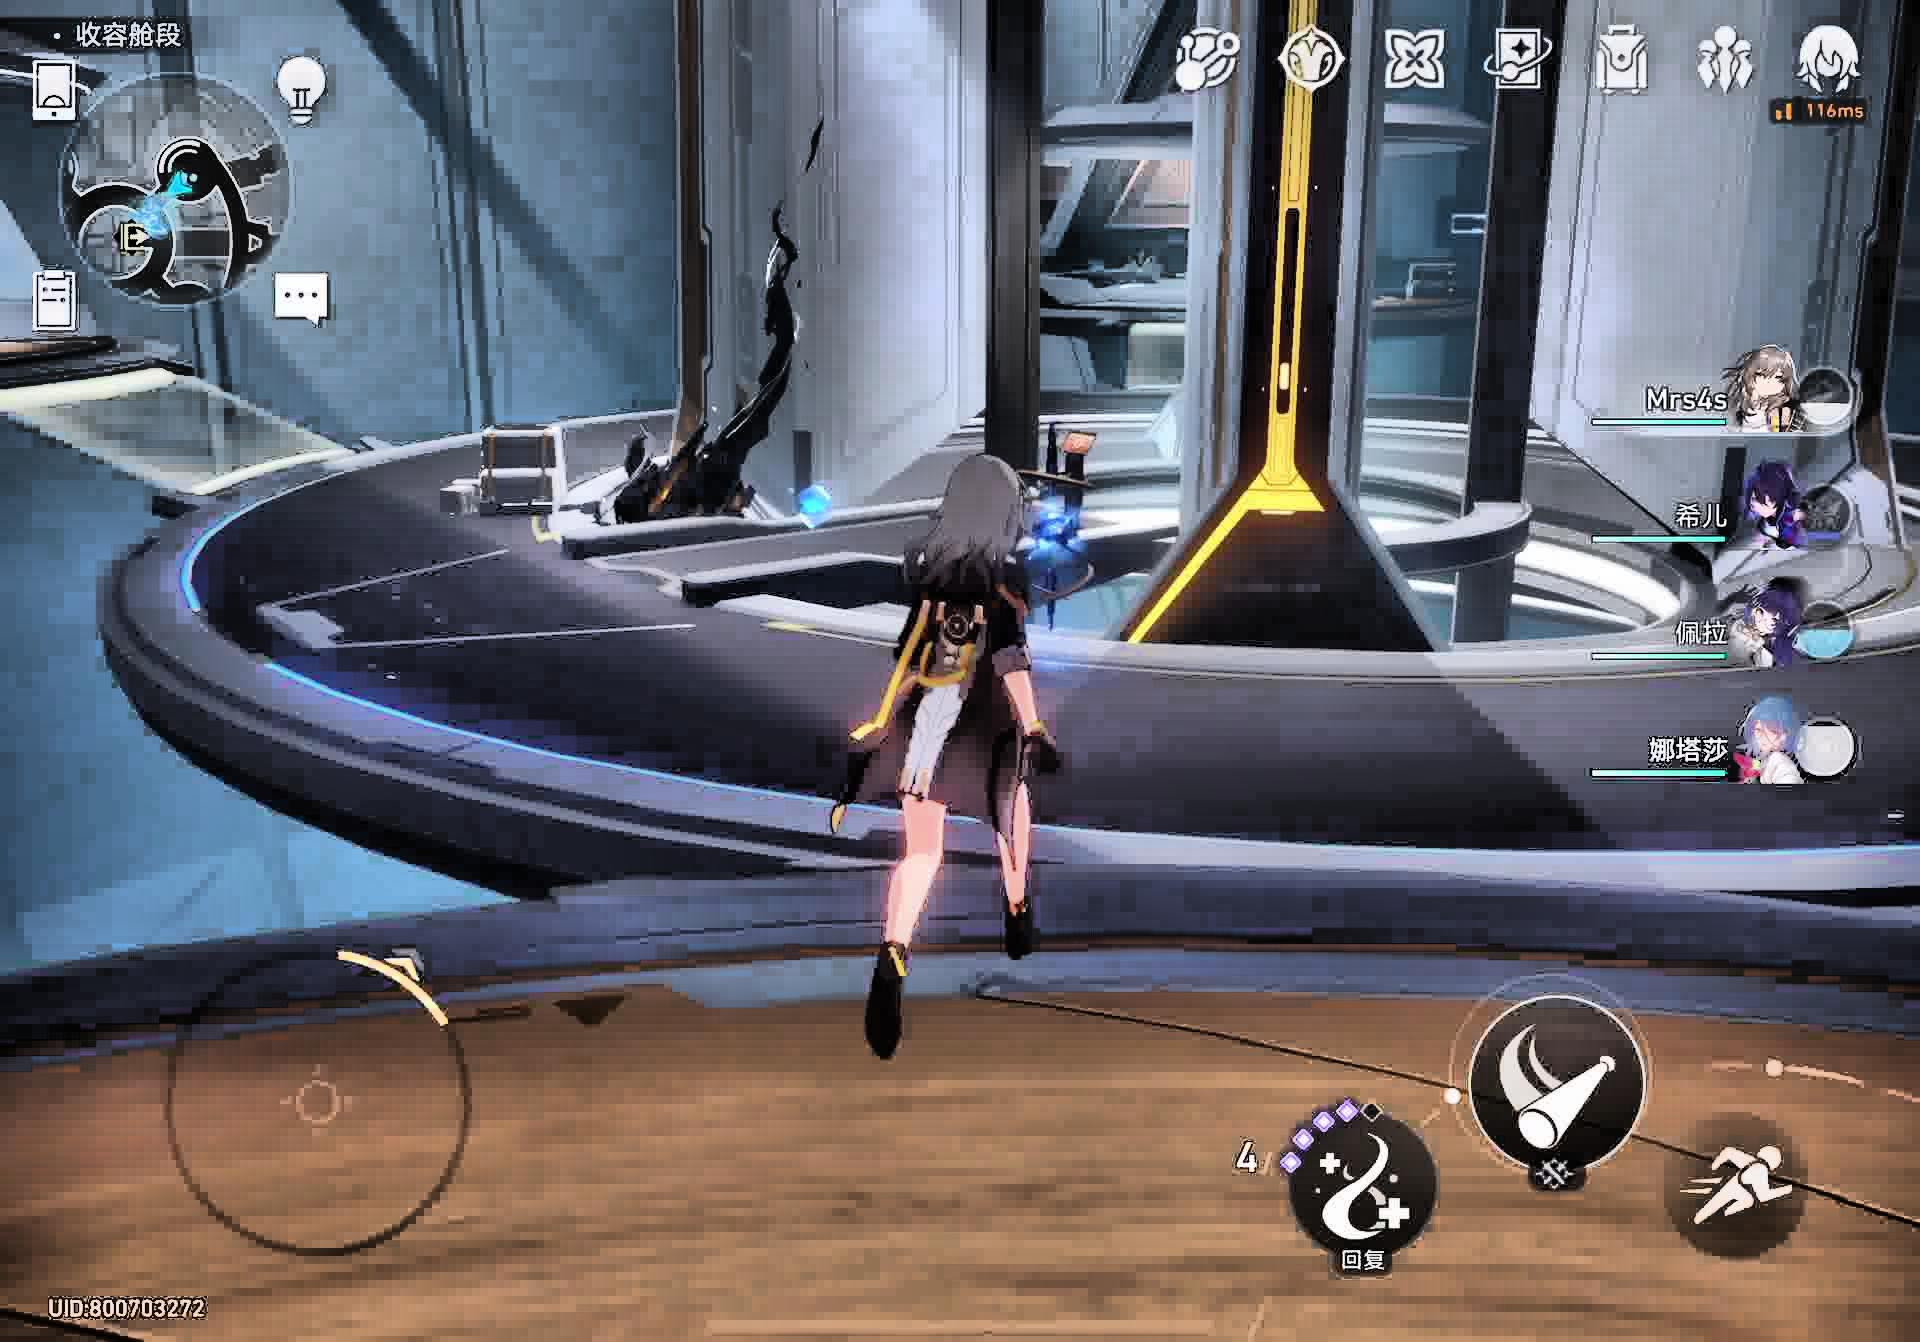Box: (427, 426, 581, 524)
Self: (840, 452, 1059, 1074)
